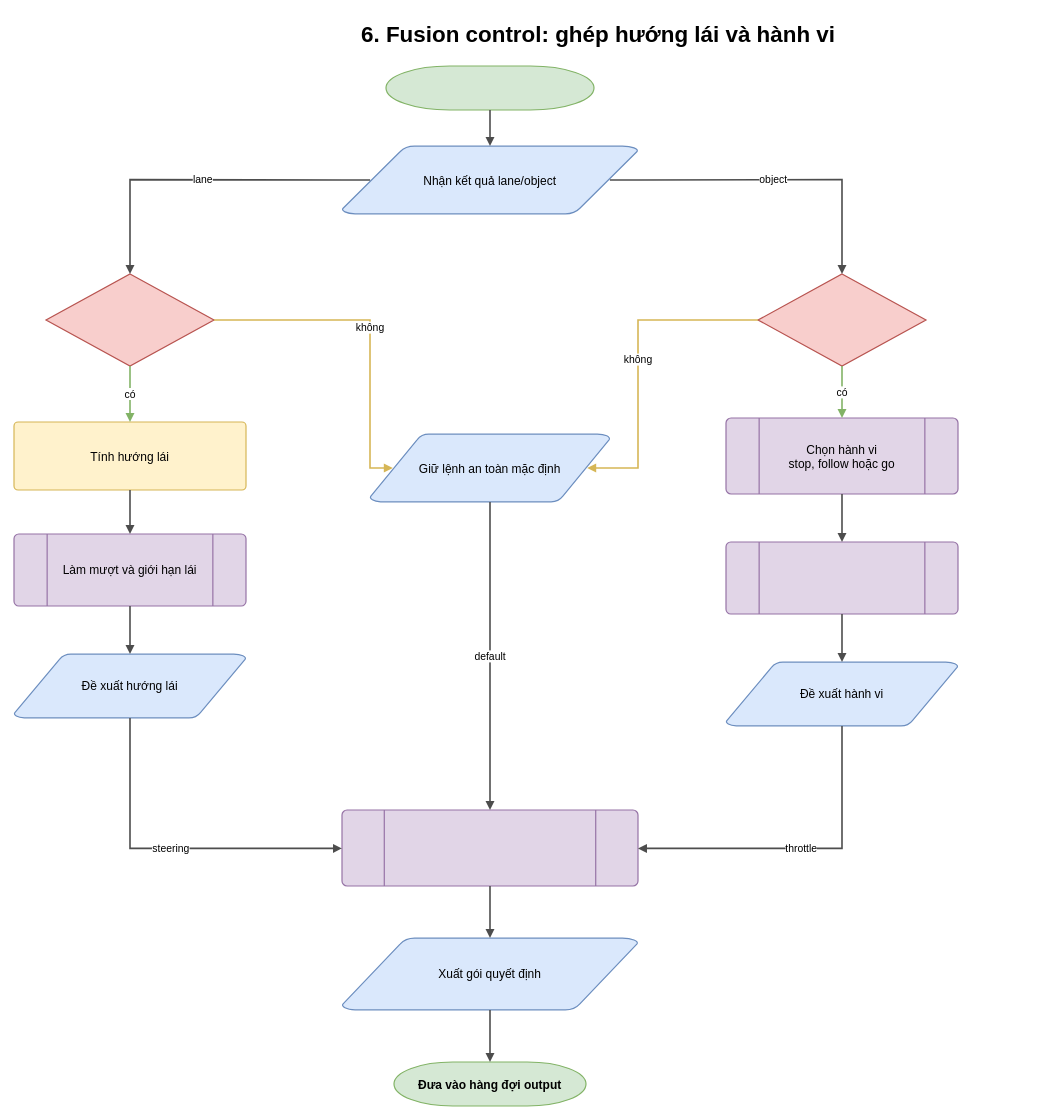
The diagram is 1060 pixels wide and 1120 high, and some of its shapes have lost their labels. Each missing label, with the centre of its shape:
Bắt đầu fusion control: point 489,87
Có thông tin vật thể?: point 841,319
Ghép steering và throttle: point 489,847
Lane đủ tin cậy?: point 129,319
Làm mượt ga/phanh: point 841,577
